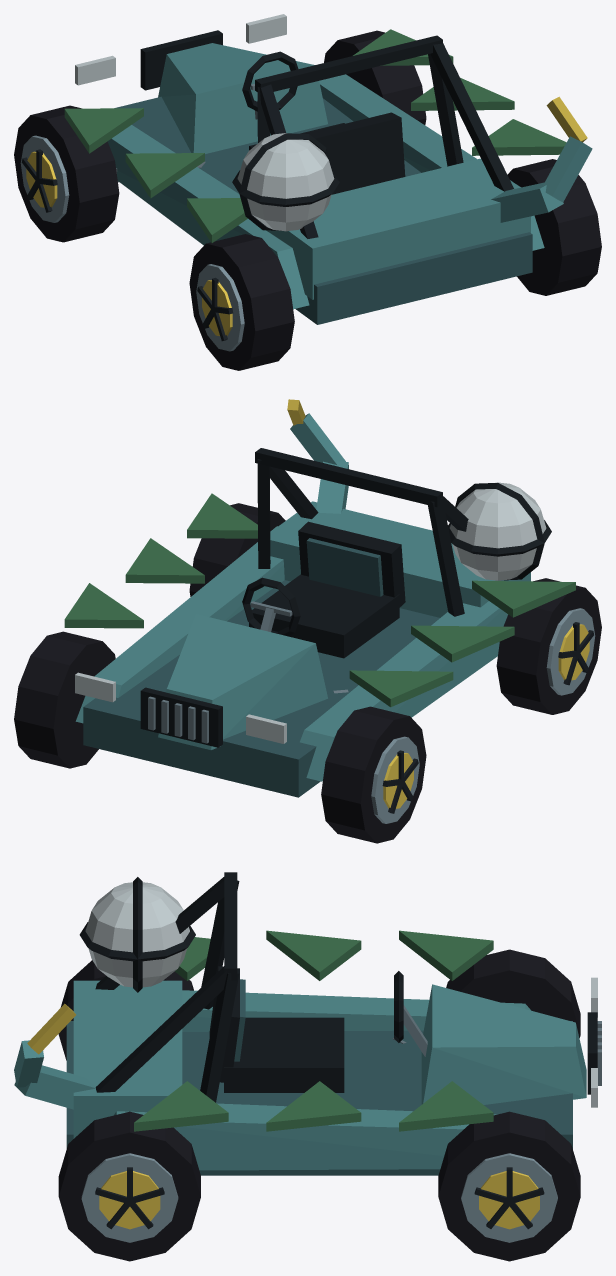
Rendered from kart.glb.
3 views of the same model, one above another, from view 1: azimuth 30°, elevation 25°; view 2: azimuth 150°, elevation 25°; view 3: azimuth 270°, elevation 25° (orthographic). The views are drawn at different scales.
Parts seen in each view (by area): view 1: identity-buggy-buggy-offroad-frame, wheel-rear-left, identity-buggy-motif-leaves, wheel-front-left, identity-buggy-motif-ball, wheel-rear-right, identity-buggy-driver-cockpit, identity-buggy-motif-tail, wheel-front-right; view 2: identity-buggy-buggy-offroad-frame, identity-buggy-driver-cockpit, identity-buggy-motif-leaves, wheel-front-left, wheel-rear-left, wheel-front-right, identity-buggy-motif-ball, identity-buggy-motif-tail, wheel-rear-right; view 3: identity-buggy-buggy-offroad-frame, wheel-front-right, wheel-rear-right, identity-buggy-motif-leaves, identity-buggy-driver-cockpit, identity-buggy-motif-ball, wheel-front-left, identity-buggy-motif-tail, wheel-rear-left.
Part boxes in pixels (x1,y1,x2,y2): identity-buggy-buggy-offroad-frame: (75, 14, 544, 324); wheel-rear-left: (189, 234, 294, 370); identity-buggy-motif-leaves: (64, 29, 566, 242); wheel-front-left: (14, 105, 119, 242); identity-buggy-motif-ball: (232, 133, 339, 231); wheel-rear-right: (507, 159, 601, 295); identity-buggy-driver-cockpit: (242, 51, 405, 194); identity-buggy-motif-tail: (491, 96, 592, 222); wheel-front-right: (324, 30, 426, 124); identity-buggy-buggy-offroad-frame: (75, 448, 530, 797); identity-buggy-driver-cockpit: (242, 521, 405, 658); identity-buggy-motif-leaves: (64, 493, 575, 707); wheel-front-left: (321, 706, 426, 843); wheel-rear-left: (496, 578, 601, 714); wheel-front-right: (14, 631, 115, 768); identity-buggy-motif-ball: (448, 482, 551, 580); identity-buggy-motif-tail: (287, 399, 348, 513); wheel-rear-right: (189, 503, 285, 596); identity-buggy-buggy-offroad-frame: (66, 872, 601, 1175); wheel-front-right: (438, 1111, 580, 1261); wheel-rear-right: (58, 1111, 200, 1261); identity-buggy-motif-leaves: (134, 930, 493, 1131); identity-buggy-driver-cockpit: (209, 966, 427, 1092); identity-buggy-motif-ball: (79, 877, 195, 992); wheel-front-left: (446, 949, 580, 1037); identity-buggy-motif-tail: (14, 1003, 95, 1109); wheel-rear-left: (58, 960, 193, 1060).
Size of the model in its own units: 2.31 by 1.39 by 2.97.
